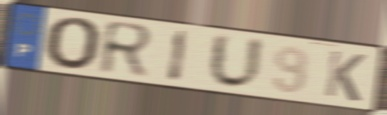9: (271, 44, 313, 96)
I: (165, 27, 191, 85)
K: (322, 48, 368, 104)
O: (45, 15, 104, 73)
R: (97, 18, 157, 81)
U: (206, 31, 267, 92)
